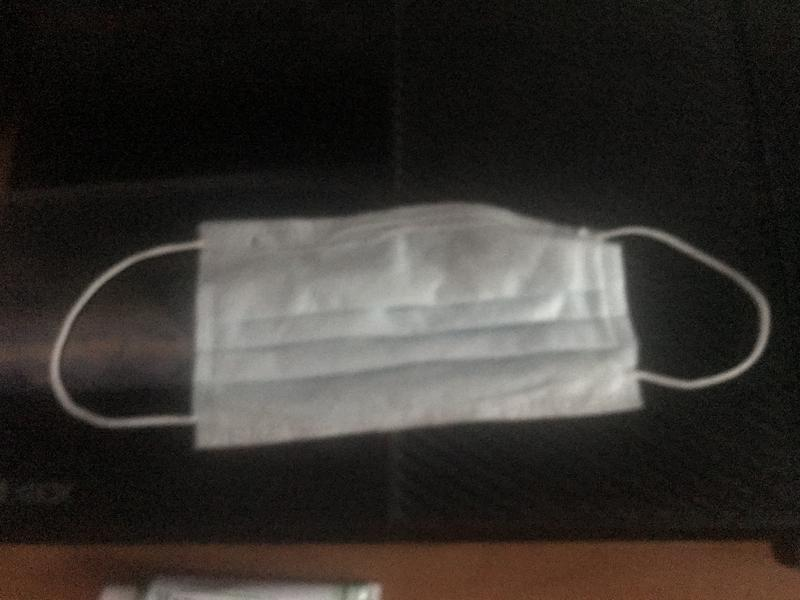medical_mask: (50, 203, 770, 447)
